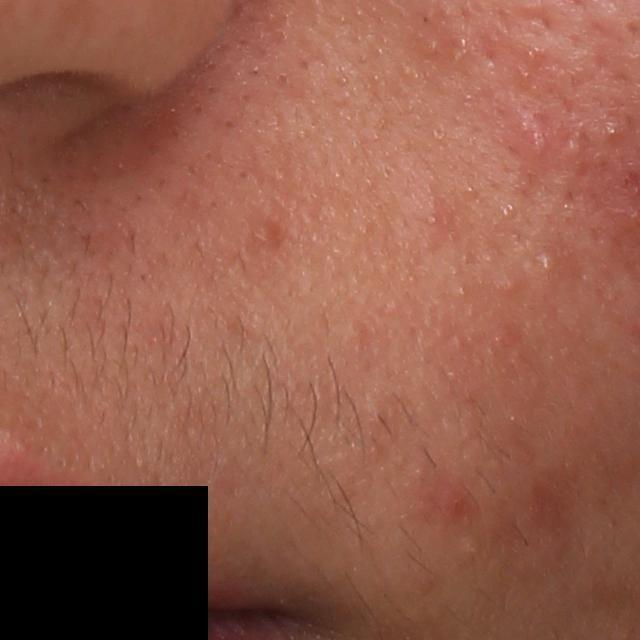comedo: (498, 273, 521, 298), (460, 536, 481, 563), (538, 252, 560, 277), (605, 120, 625, 143)
papule: (520, 120, 558, 160)
